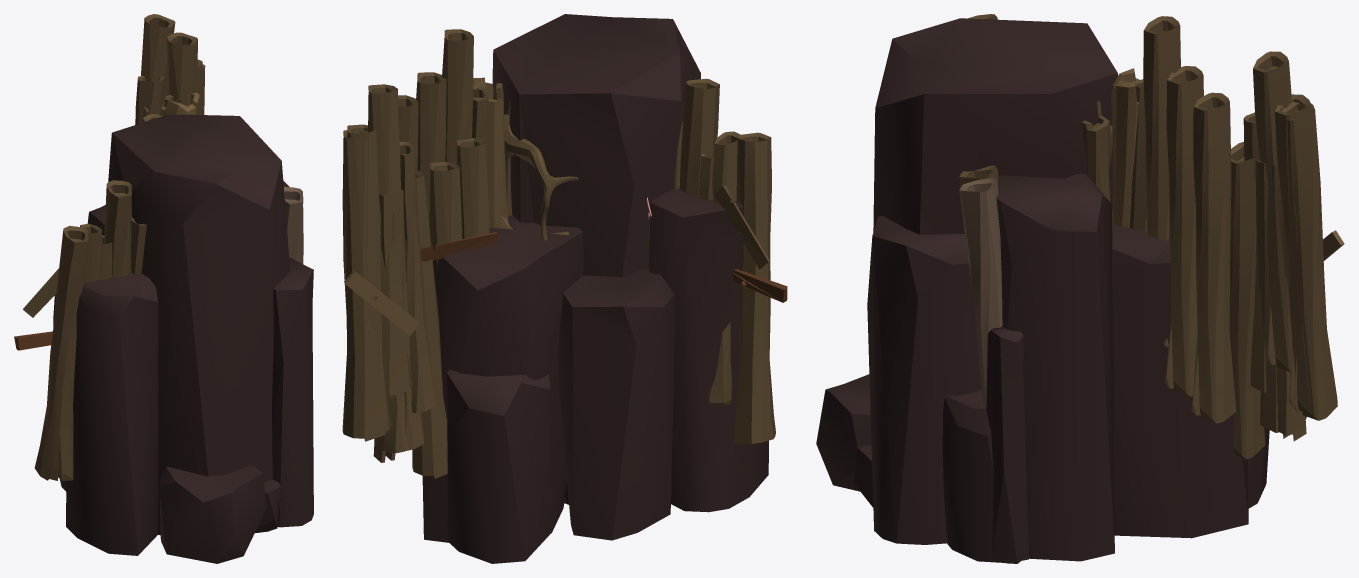
The model's file is Fence 2.fbx.
3 renders of one model, left to right at view 1: azimuth 30°, elevation 25°; view 2: azimuth 150°, elevation 25°; view 3: azimuth 270°, elevation 25°, orthographic. The views are drawn at different scales.
Visible parts, largest first — view 1: EA04_Env_Rocks_Sand_01c, EA04_Env_Tree_Trunk_01e.013, EA04_Env_Tree_Trunk_01e.006, EA04_Env_Tree_Trunk_01e.111, EA04_Env_Tree_Trunk_01e.129, EA04_Env_Tree_Trunk_01e, EA04_Env_Tree_Trunk_01a.050, EA04_Env_Tree_Trunk_01a.004, EA04_Env_Tree_Trunk_01e.003, EA04_Wooden_Desk_01i.001, EA04_Wooden_Desk_01g.001, EA04_Env_Tree_Trunk_01b.007 (+1 smaller); view 2: EA04_Env_Rocks_Sand_01c, EA04_Env_Tree_Trunk_01e.013, EA04_Env_Tree_Trunk_01e.127, EA04_Env_Tree_Trunk_01e.129, EA04_Env_Tree_Trunk_01a.050, EA04_Env_Tree_Trunk_01e.124, EA04_Env_Tree_Trunk_01e.111, EA04_Env_Tree_Trunk_01e.006, EA04_Env_Tree_Trunk_01e.123, EA04_Env_Tree_Trunk_01e.114, EA04_Env_Tree_Trunk_01b.007, EA04_Env_Tree_Trunk_01e.126 (+12 smaller); view 3: EA04_Env_Rocks_Sand_01c, EA04_Env_Tree_Trunk_01e.113, EA04_Env_Tree_Trunk_01e.127, EA04_Env_Tree_Trunk_01e.114, EA04_Env_Tree_Trunk_01e.124, EA04_Env_Tree_Trunk_01e.129, EA04_Env_Tree_Trunk_01e.111, EA04_Env_Tree_Trunk_01e, EA04_Env_Tree_Trunk_01e.123, EA04_Env_Tree_Trunk_01b.007, EA04_Env_Tree_Trunk_01a.049, EA04_Env_Tree_Trunk_01a.050 (+3 smaller).
Part boxes in pixels (bbox=[...]): EA04_Env_Rocks_Sand_01c: bbox=[53, 114, 313, 563]; EA04_Env_Tree_Trunk_01e.013: bbox=[34, 225, 88, 480]; EA04_Env_Tree_Trunk_01e.006: bbox=[104, 180, 131, 276]; EA04_Env_Tree_Trunk_01e.111: bbox=[166, 32, 197, 100]; EA04_Env_Tree_Trunk_01e.129: bbox=[141, 14, 175, 104]; EA04_Env_Tree_Trunk_01e: bbox=[284, 186, 303, 263]; EA04_Env_Tree_Trunk_01a.050: bbox=[135, 76, 164, 124]; EA04_Env_Tree_Trunk_01a.004: bbox=[80, 223, 102, 282]; EA04_Env_Tree_Trunk_01e.003: bbox=[131, 217, 146, 273]; EA04_Wooden_Desk_01i.001: bbox=[23, 268, 58, 317]; EA04_Wooden_Desk_01g.001: bbox=[14, 331, 52, 350]; EA04_Env_Tree_Trunk_01b.007: bbox=[165, 92, 199, 115]; EA04_Env_Rocks_Sand_01c: bbox=[422, 14, 768, 563]; EA04_Env_Tree_Trunk_01e.013: bbox=[734, 132, 775, 444]; EA04_Env_Tree_Trunk_01e.127: bbox=[342, 130, 387, 441]; EA04_Env_Tree_Trunk_01e.129: bbox=[368, 84, 412, 396]; EA04_Env_Tree_Trunk_01a.050: bbox=[399, 141, 435, 413]; EA04_Env_Tree_Trunk_01e.124: bbox=[412, 170, 447, 478]; EA04_Env_Tree_Trunk_01e.111: bbox=[442, 29, 473, 163]; EA04_Env_Tree_Trunk_01e.006: bbox=[679, 78, 719, 196]; EA04_Env_Tree_Trunk_01e.123: bbox=[347, 124, 391, 431]; EA04_Env_Tree_Trunk_01e.114: bbox=[416, 72, 446, 226]; EA04_Env_Tree_Trunk_01b.007: bbox=[473, 77, 568, 235]; EA04_Env_Tree_Trunk_01e.126: bbox=[457, 138, 489, 238]; EA04_Env_Rocks_Sand_01c: bbox=[816, 18, 1269, 563]; EA04_Env_Tree_Trunk_01e.113: bbox=[1191, 92, 1235, 423]; EA04_Env_Tree_Trunk_01e.127: bbox=[1282, 101, 1337, 420]; EA04_Env_Tree_Trunk_01e.114: bbox=[1165, 66, 1203, 396]; EA04_Env_Tree_Trunk_01e.124: bbox=[1229, 142, 1265, 459]; EA04_Env_Tree_Trunk_01e.129: bbox=[1253, 51, 1291, 371]; EA04_Env_Tree_Trunk_01e.111: bbox=[1143, 16, 1180, 346]; EA04_Env_Tree_Trunk_01e: bbox=[959, 178, 1002, 406]; EA04_Env_Tree_Trunk_01e.123: bbox=[1275, 94, 1311, 410]; EA04_Env_Tree_Trunk_01b.007: bbox=[1111, 68, 1143, 227]; EA04_Env_Tree_Trunk_01a.049: bbox=[1256, 160, 1289, 438]; EA04_Env_Tree_Trunk_01a.050: bbox=[1243, 112, 1266, 392].
Bounding box in the file's own units: 1037 × 1397 × 1323.
